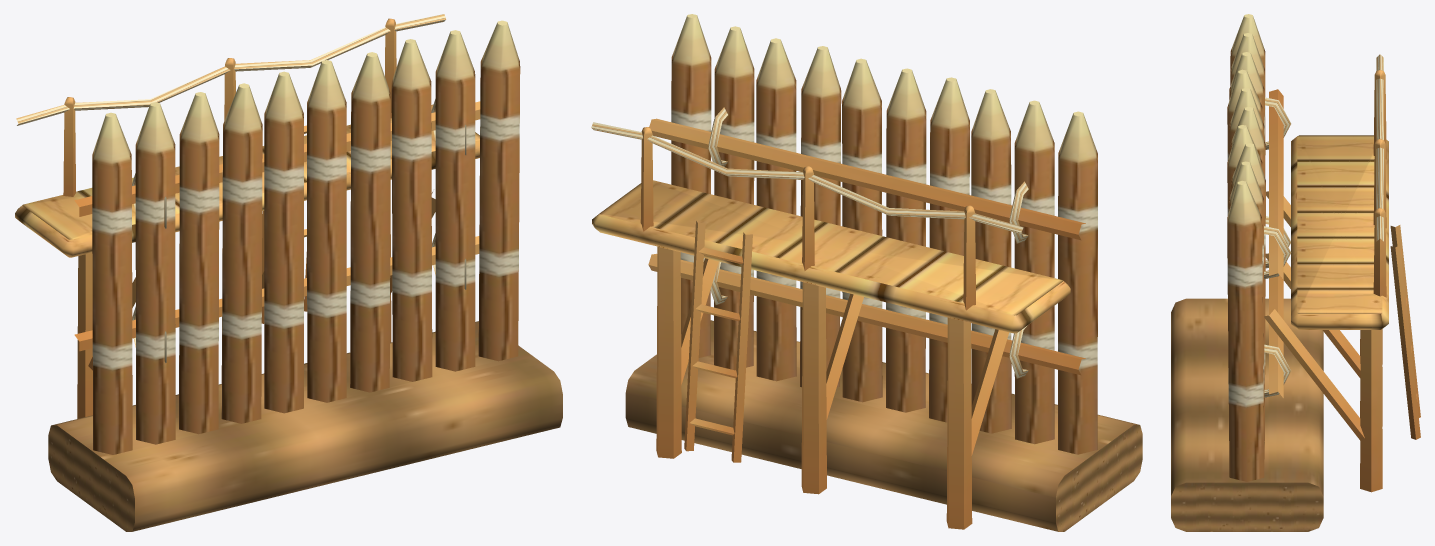
Rendered from palisade.glb.
3 views of the same model, side by side, from view 1: azimuth 30°, elevation 25°; view 2: azimuth 150°, elevation 25°; view 3: azimuth 270°, elevation 25° (orthographic). The views are drawn at different scales.
Parts seen in each view (by area): view 1: palisade; view 2: palisade; view 3: palisade.
Part boxes in pixels (box(x1,y1,x2,y2)): palisade: box(15, 14, 562, 531); palisade: box(591, 14, 1142, 531); palisade: box(1171, 14, 1420, 531).
Size of the model in its own units: 4 by 3.45 by 2.29.
1 material, 1 textured.
